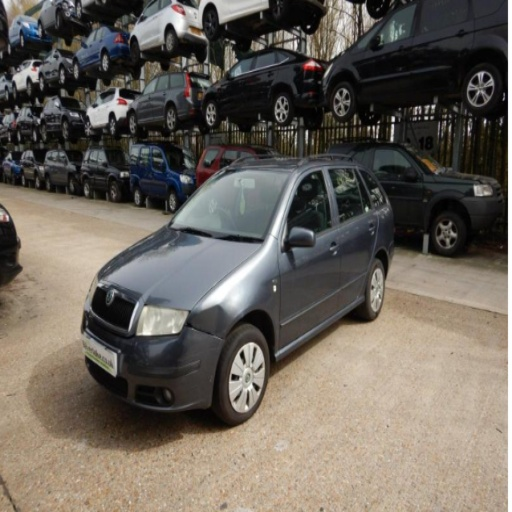dent: (188, 304, 226, 336)
